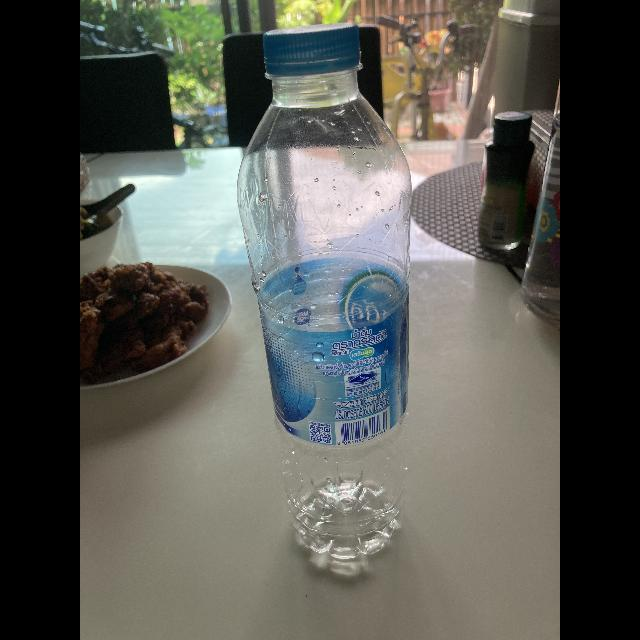plastic_bottle: (235, 20, 407, 580)
plastic_bottle_cap: (262, 19, 366, 75)
